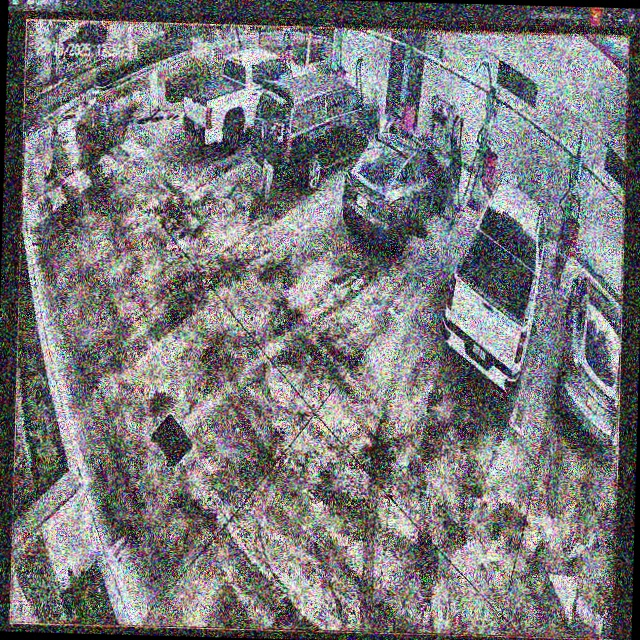Car: (440, 177, 550, 396), (250, 78, 382, 194), (341, 127, 453, 256), (183, 49, 311, 155)
